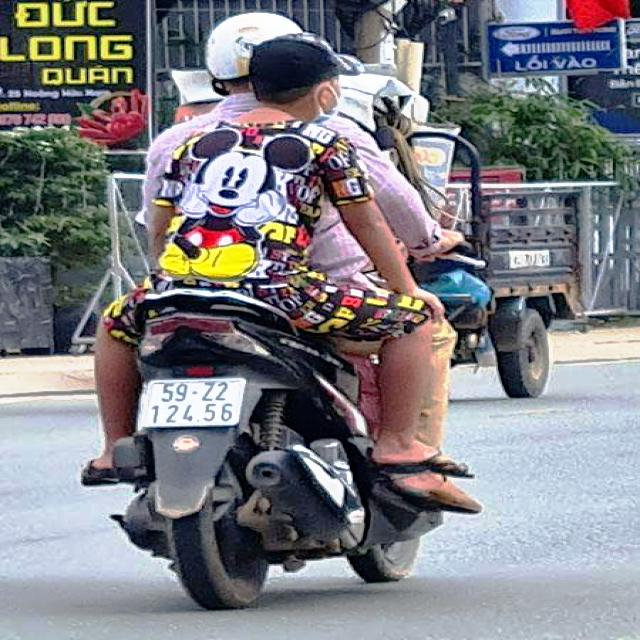license_plate: (137, 379, 248, 427)
